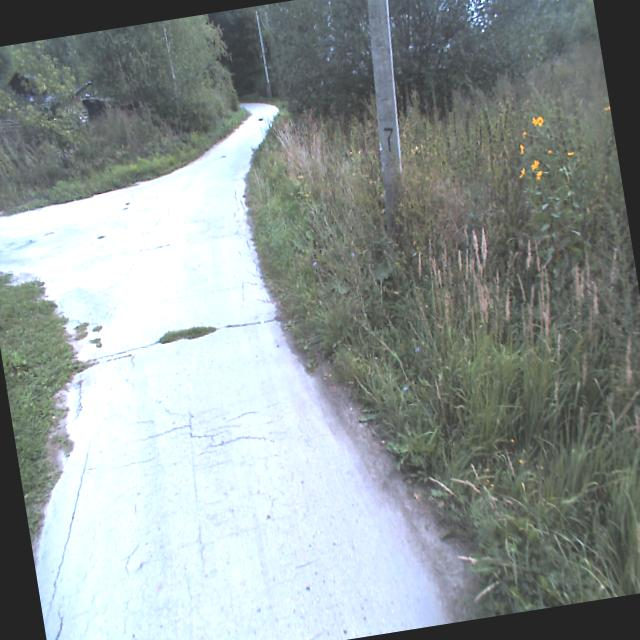road: (0, 102, 449, 640)
